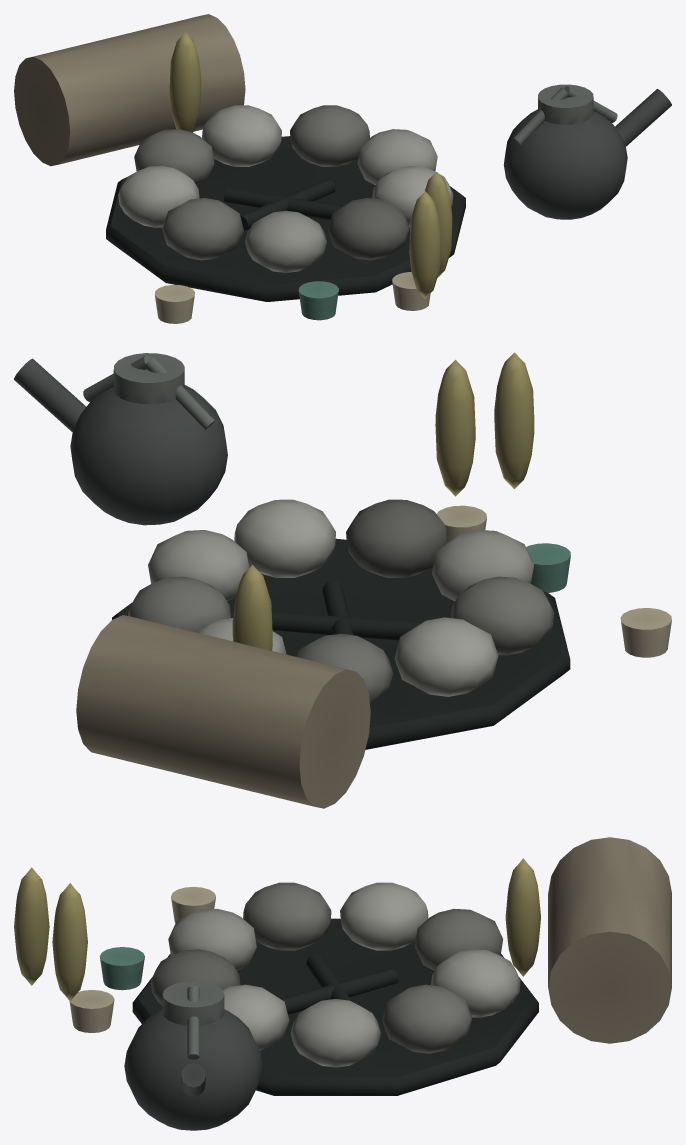
Rendered from tea_hearth_b.glb.
3 views of the same model, one above another, from view 1: azimuth 30°, elevation 25°; view 2: azimuth 150°, elevation 25°; view 3: azimuth 270°, elevation 25° (orthographic). The views are drawn at different scales.
Visible parts, largest first — view 1: Surface; view 2: Surface; view 3: Surface.
Boxes of the visible parts, x1,y1,x2,y2 form: Surface: [14, 14, 671, 323]; Surface: [14, 352, 671, 808]; Surface: [14, 837, 671, 1130].
Size of the model in its own units: 3.21 by 0.8156 by 3.24.
